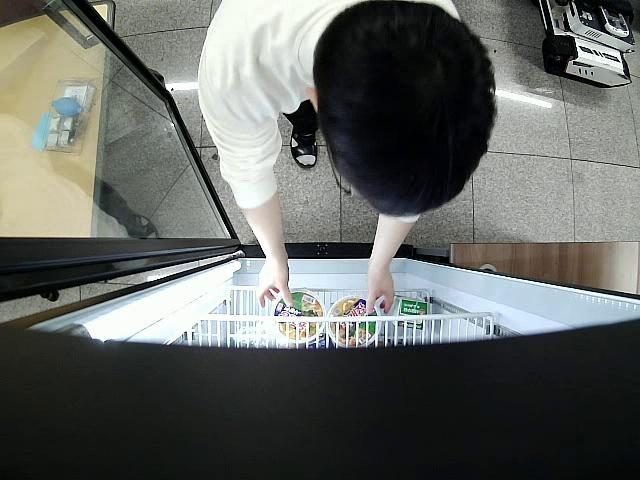09_yukGaeJang: (272, 290, 325, 342), (328, 296, 381, 344)
